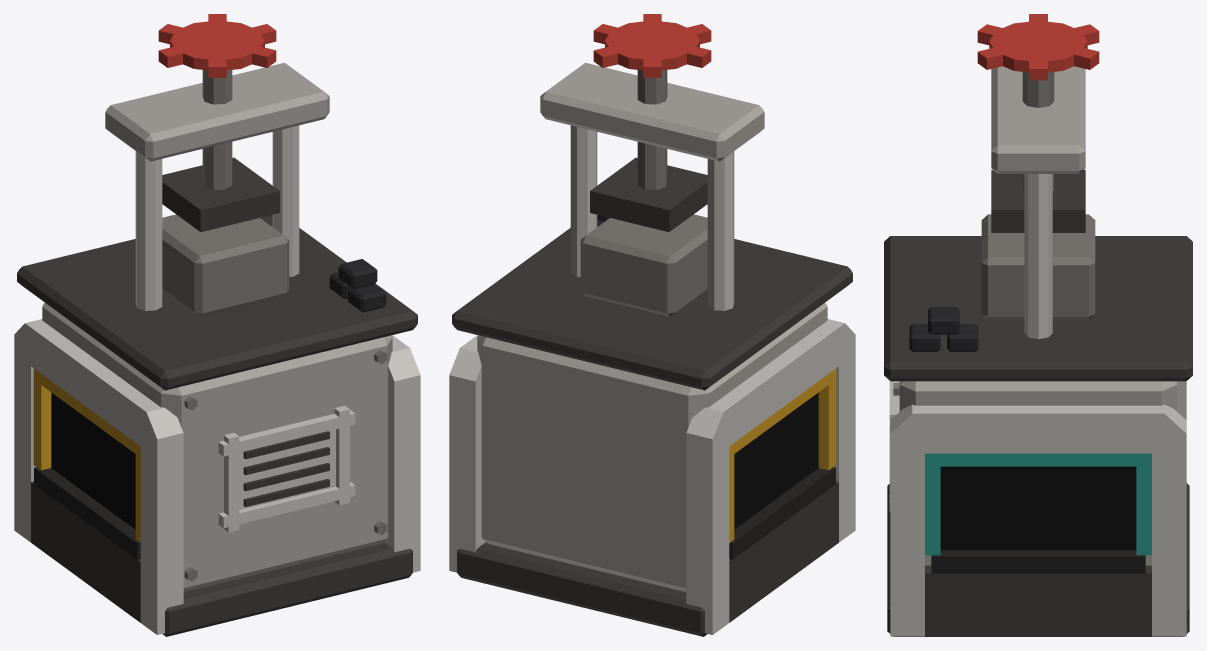
Rendered from briquetter.fbx.
3 renders of one model, left to right at view 1: azimuth 30°, elevation 25°; view 2: azimuth 150°, elevation 25°; view 3: azimuth 270°, elevation 25°, orthographic. The views are drawn at different scales.
Parts seen in each view (by area): view 1: briquetter; view 2: briquetter; view 3: briquetter.
Boxes of the visible parts, x1,y1,x2,y2 form: briquetter: [14, 14, 420, 636]; briquetter: [449, 14, 855, 636]; briquetter: [884, 14, 1192, 636].
Bounding box in the file's own units: 3 × 5.61 × 2.94.
